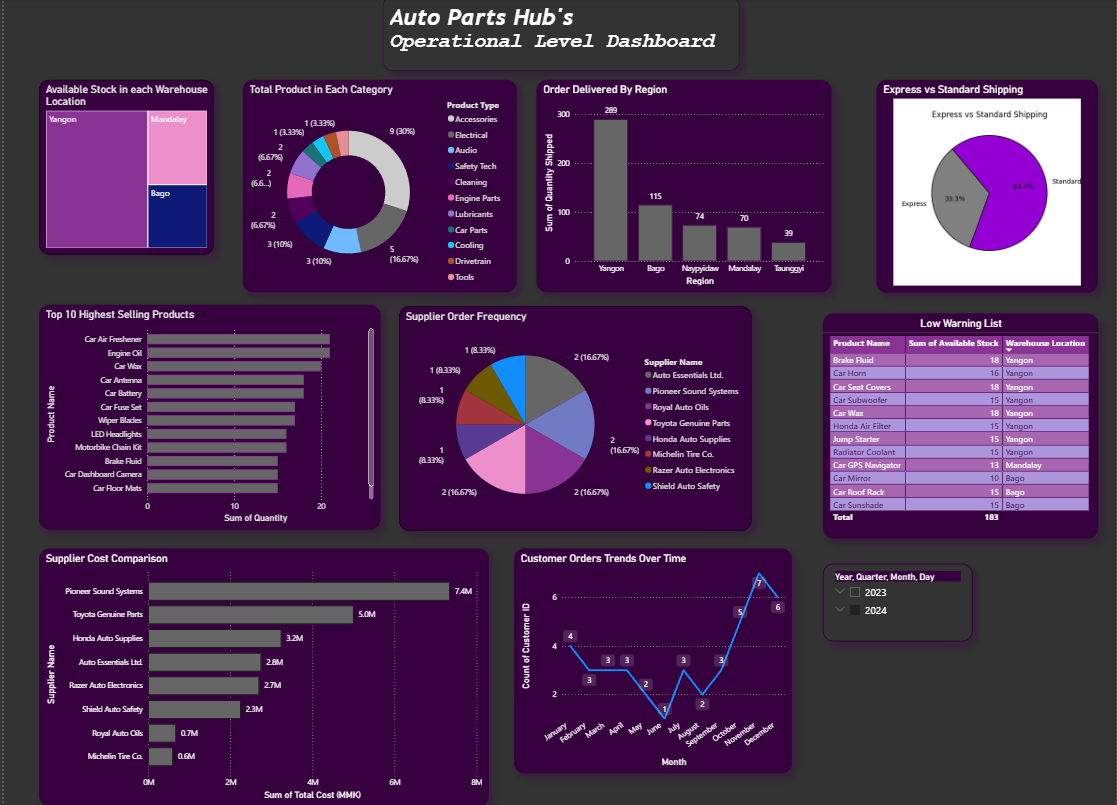

The dashboard page shown, as its layout file describes it:
{"tool":"powerbi","page":{"name":"Operational_Level_Dashboard  ","canvas":[1780,1800],"ordinal":2},"visuals":[{"type":"treemap","title":"Available Stock in each Warehouse Location","fields":{"Group":["Inventory Table.Warehouse Location"],"Values":["Sum(Inventory Table.Available Stock)"]},"box":[55.6,165.6,280,280],"z":0},{"type":"donutChart","title":"Total Product in Each Category","fields":{"Category":["Inventory Table.Product Type"],"Y":["CountNonNull(Inventory Table.Product Name)"]},"box":[381,166,438,340],"z":1000},{"type":"clusteredBarChart","title":"Top 10 Highest Selling Products","fields":{"Category":["Inventory Table.Product Name"],"Y":["Sum(Order Detail Table.Quantity)"]},"box":[56.7,526.7,546.7,360],"z":2000},{"type":"columnChart","title":"Order Delivered By Region","fields":{"Category":["Customer Table.Region"],"Y":["Sum(Delivery Table.Quantity Shipped)"]},"box":[852.7,166.4,471.8,340],"z":3000},{"type":"tableEx","title":"Low Warning List","fields":{"Values":["Inventory Table.Product Name","Sum(Inventory Table.Available Stock)","Inventory Table.Warehouse Location"]},"box":[1310,540,441,360],"z":4000},{"type":"pieChart","title":"Supplier Order Frequency","fields":{"Category":["Supplier Table.Supplier Name"],"Y":["CountNonNull(Supplier Orders Table.Supplier Order ID)"]},"box":[631,528,564,360],"z":5000},{"type":"barChart","title":"Supplier Cost Comparison","fields":{"Category":["Supplier Table.Supplier Name"],"Y":["Sum(Supplier Orders Table.Total Cost (MMK))"]},"box":[55,915,720,412.5],"z":6000},{"type":"lineChart","title":"Customer Orders Trends Over Time","fields":{"Y":["Count(Order Table.Customer ID)"],"Category":["Order Table.Order Date.Variation.Date Hierarchy.Month"]},"box":[815,915,445,360],"z":7000},{"type":"slicer","fields":{"Values":["Order Table.Order Date.Variation.Date Hierarchy.Year","Order Table.Order Date.Variation.Date Hierarchy.Quarter","Order Table.Order Date.Variation.Date Hierarchy.Month","Order Table.Order Date.Variation.Date Hierarchy.Day"]},"box":[1310,940,240,125],"z":8000},{"type":"pythonVisual","title":"Express vs Standard Shipping","fields":{"Values":["Delivery Table.Shipping Method","Order Table.Order ID"]},"box":[1396.4,166.4,354.5,340.9],"z":9000},{"type":"textbox","box":[605.7,31.4,570,120],"z":10000}]}

Visuals, with their boxes on the page's 1780x1800 design canvas (x1, y1, x2, y2). These are canvas units, not pixel positions in the 1117x805 screenshot, which may show the page scaled, cropped or inside an application window:
"Available Stock in each Warehouse Location" treemap: box(56, 166, 336, 446)
"Total Product in Each Category" donutChart: box(381, 166, 819, 506)
"Top 10 Highest Selling Products" clusteredBarChart: box(57, 527, 603, 887)
"Order Delivered By Region" columnChart: box(853, 166, 1324, 506)
"Low Warning List" tableEx: box(1310, 540, 1751, 900)
"Supplier Order Frequency" pieChart: box(631, 528, 1195, 888)
"Supplier Cost Comparison" barChart: box(55, 915, 775, 1328)
"Customer Orders Trends Over Time" lineChart: box(815, 915, 1260, 1275)
slicer - Order Table.Order Date.Variation.Date Hierarchy.Year x Order Table.Order Date.Variation.Date Hierarchy.Quarter: box(1310, 940, 1550, 1065)
"Express vs Standard Shipping" pythonVisual: box(1396, 166, 1751, 507)
textbox: box(606, 31, 1176, 151)
